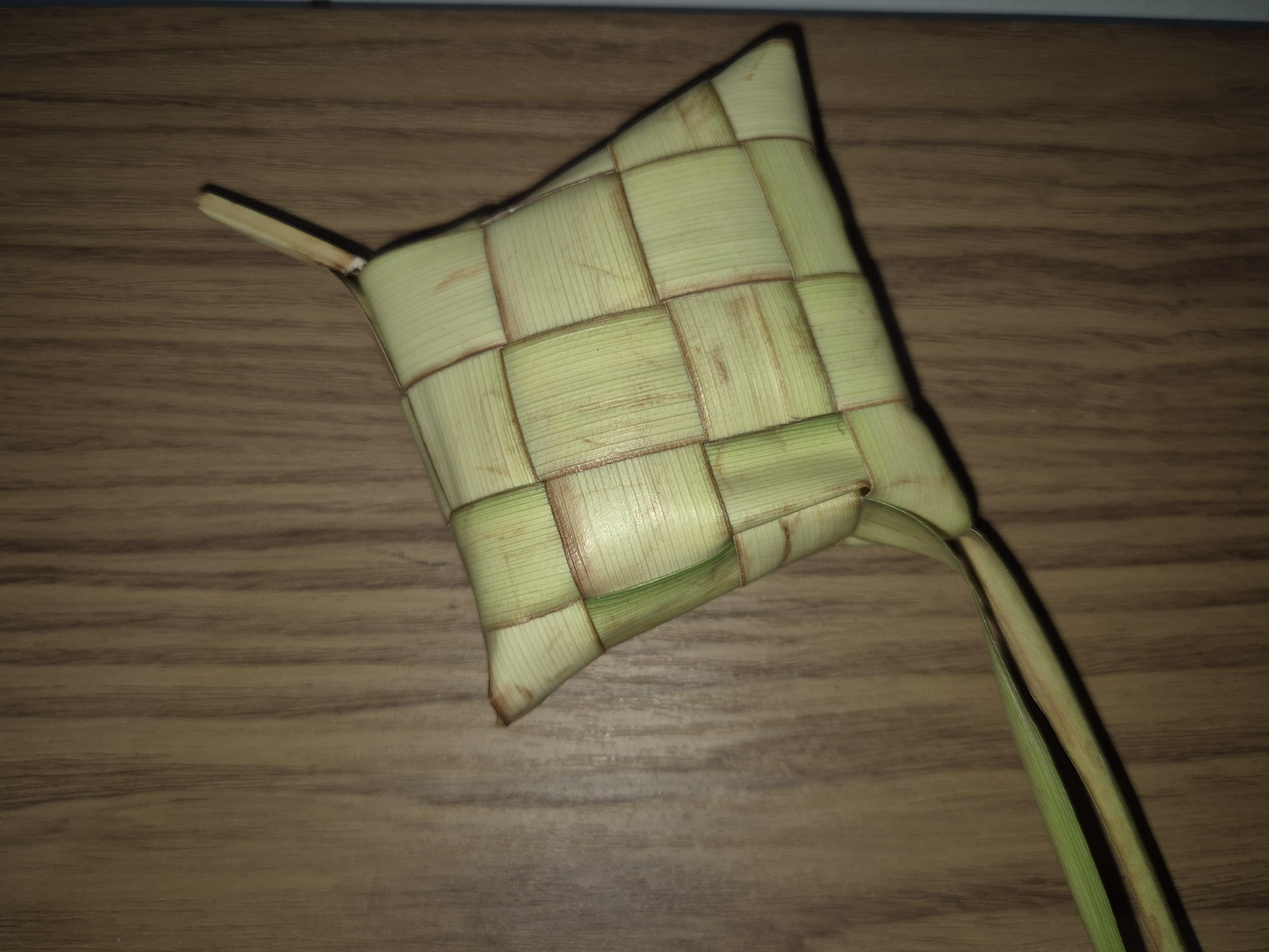Tipat Nasi: (310, 269, 1216, 727)
